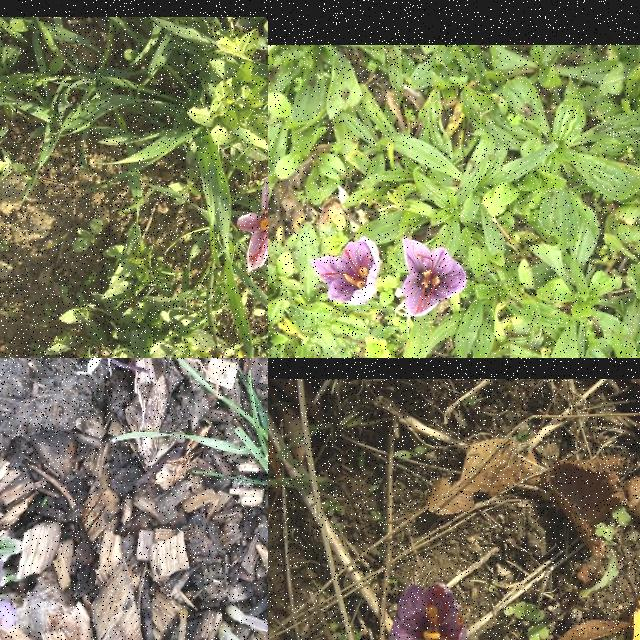flower: (401, 238, 467, 318), (312, 238, 381, 306), (389, 583, 467, 640), (238, 177, 268, 273), (0, 602, 16, 632)
